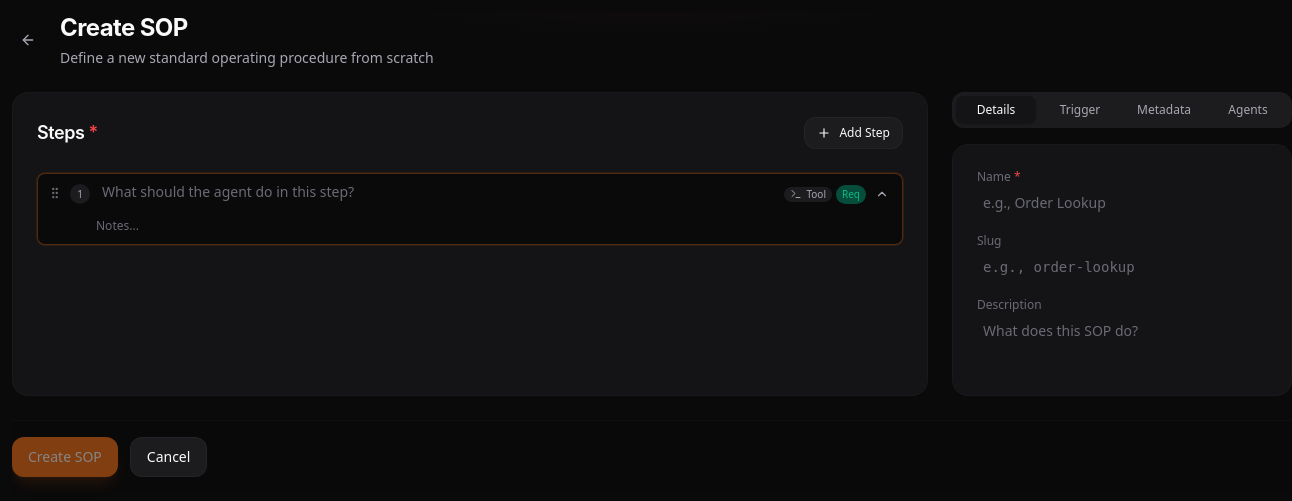
NewSopPage › steps management › toggles step required/optional via badge
This screenshot has width=1292, height=501.
Click the button "Req" at coordinates (851, 194), box left=836, top=184, right=866, bottom=204
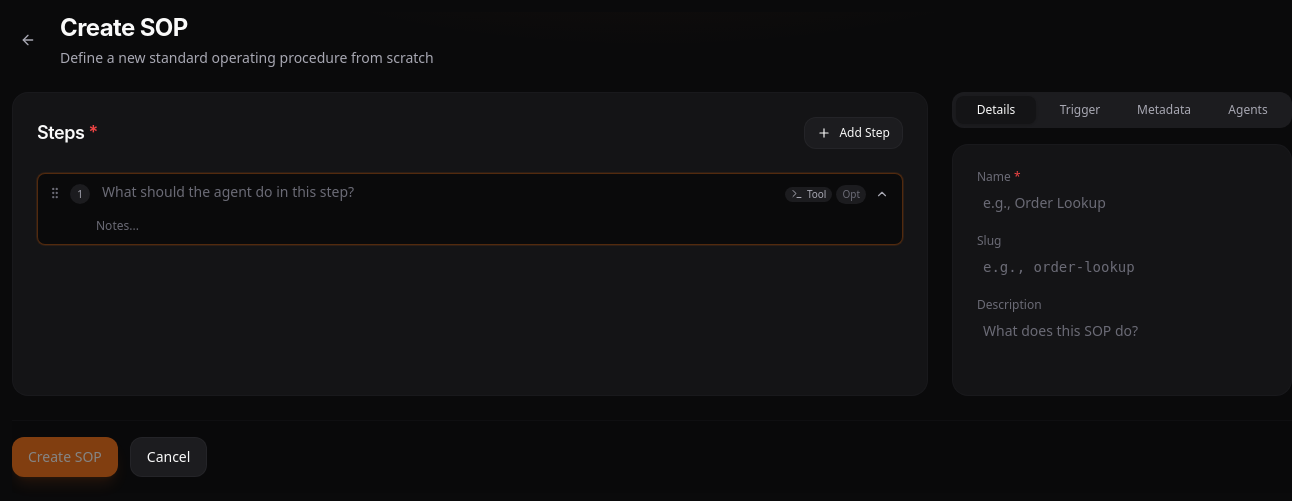
Expected: the button "Opt" is shown, left=836, top=184, right=866, bottom=204
